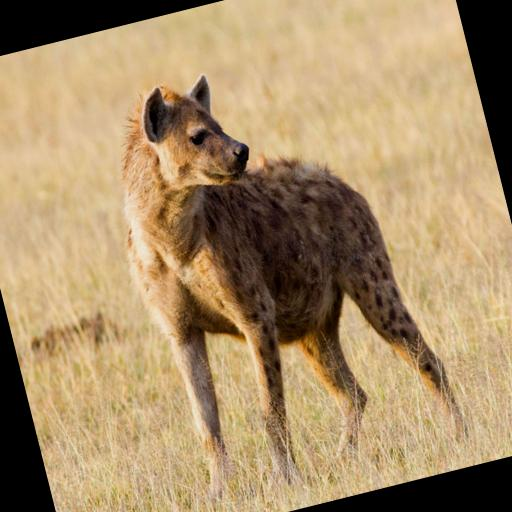hyenas: (36, 0, 492, 484)
